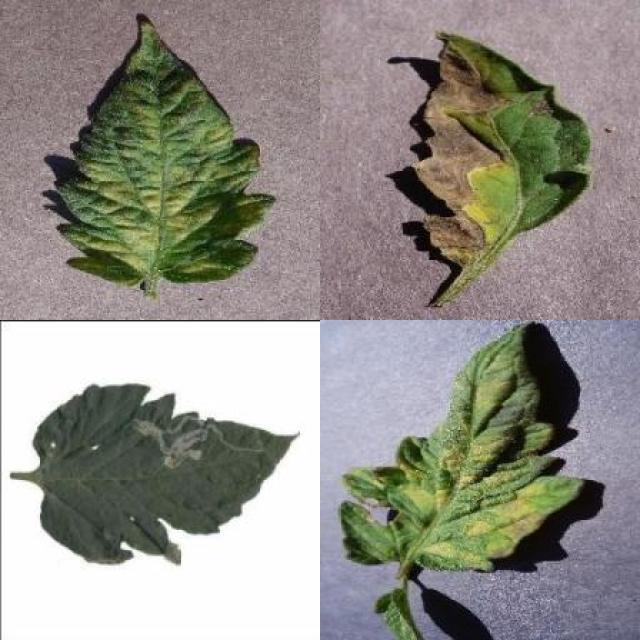Early Blight: (401, 28, 589, 272)
Leaf Miner: (32, 382, 298, 568)
Leaf Mold: (336, 320, 585, 571), (55, 17, 275, 283)
